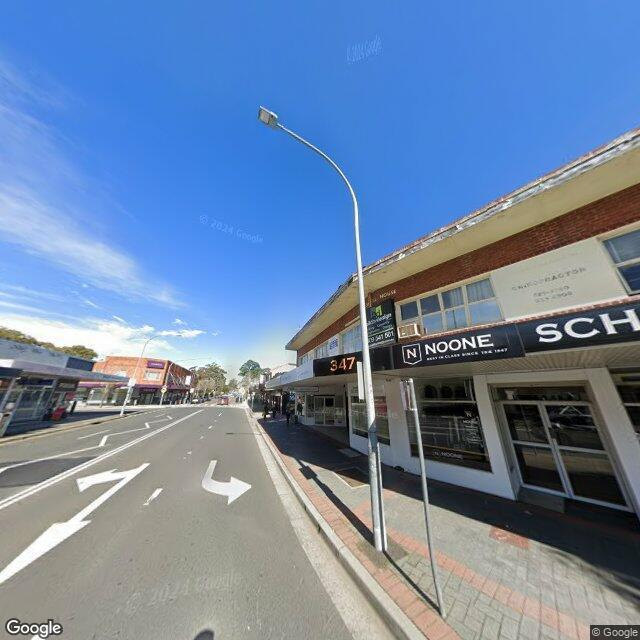steel-pole: (354, 199, 388, 552), (126, 341, 148, 406)
streetlight: (258, 107, 356, 202), (148, 334, 182, 341)
